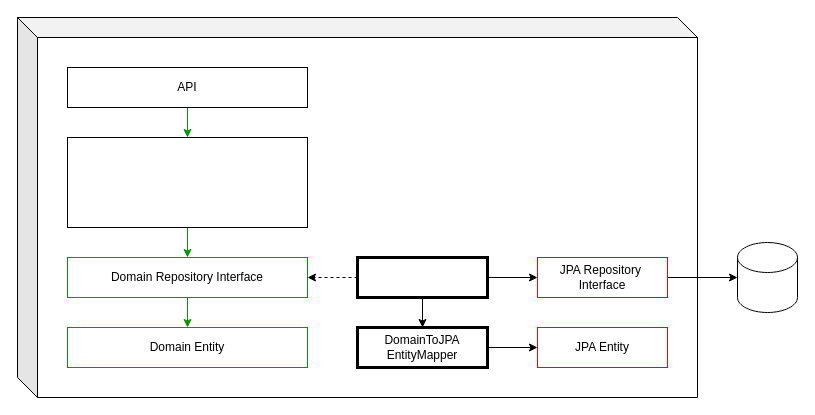
Some shapes in this 815 by 415 pixel diagram are drawn without their labels. Here are the shapes that lost their labels. From the top down, the centre of each, then its label:
At point 187,182: "Business".
At point 422,277: "Domain Repository Implementierung".
At point 767,277: "DB".
